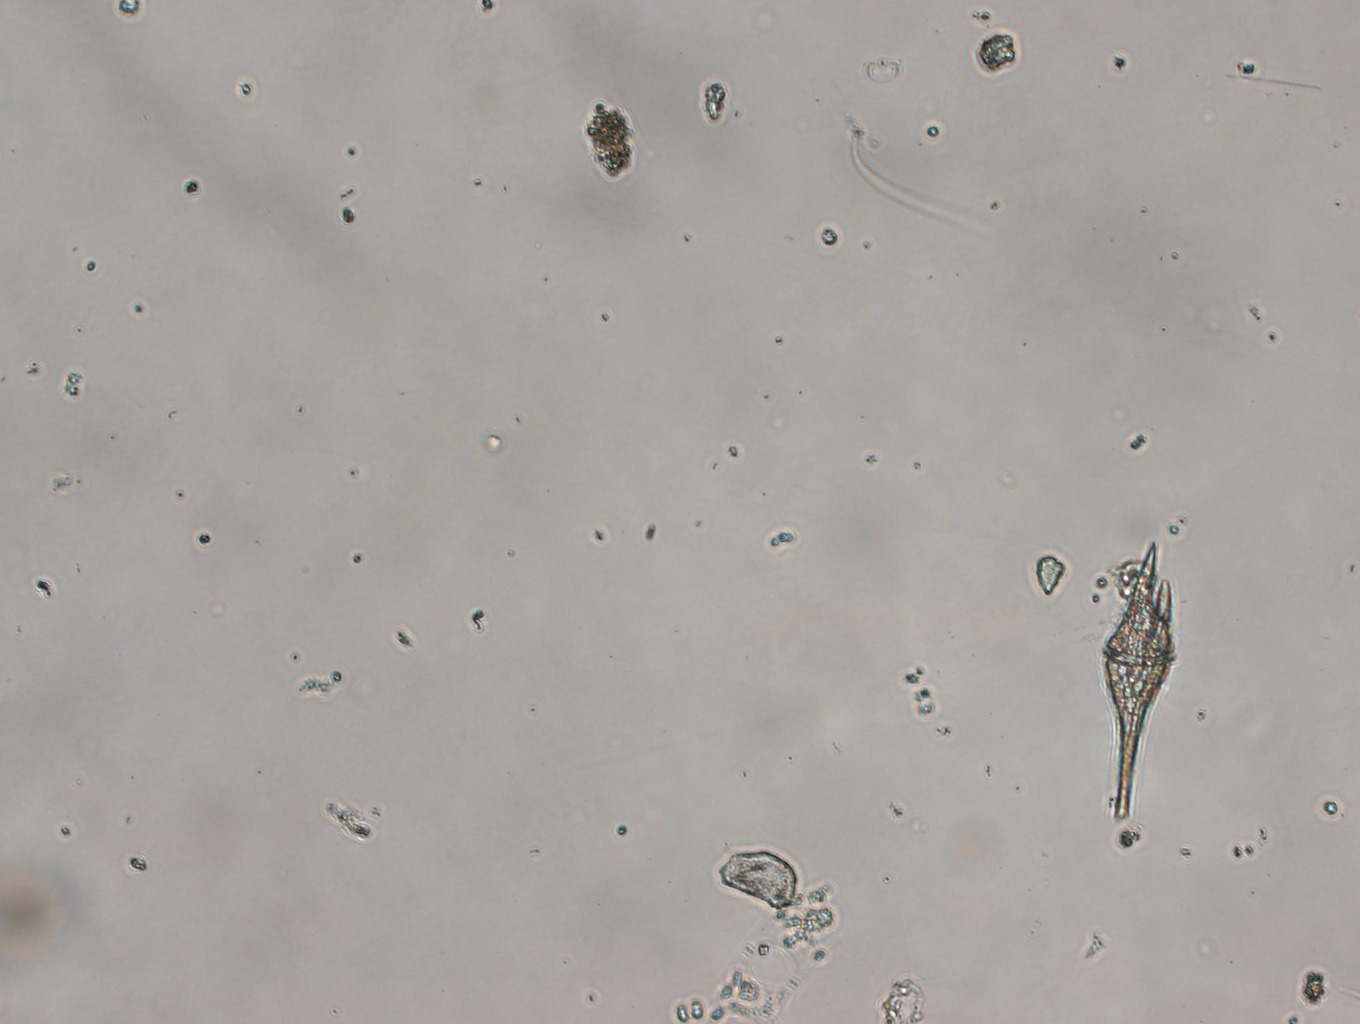ceratium furca: (1103, 540, 1176, 820)
